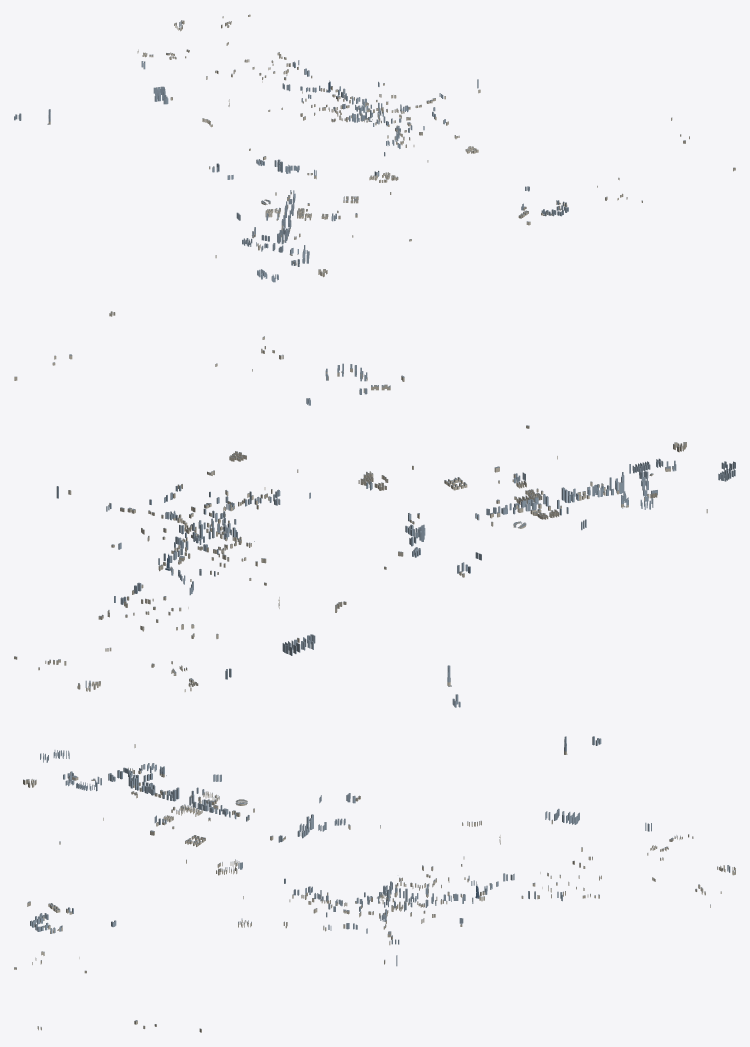
File: skyline.glb
The picture shows the model from 3 angles, top to bottom: view 1: azimuth 30°, elevation 25°; view 2: azimuth 150°, elevation 25°; view 3: azimuth 270°, elevation 25°; orthographic projection. The views are drawn at different scales.
Visible parts, largest first — view 1: Skyline; view 2: Skyline; view 3: Skyline.
Boxes of the visible parts, x1,y1,x2,y2 form: Skyline: [14, 14, 735, 282]; Skyline: [14, 311, 735, 707]; Skyline: [14, 736, 735, 1032].
Size of the model in its own units: 16832 by 505 by 17669.
